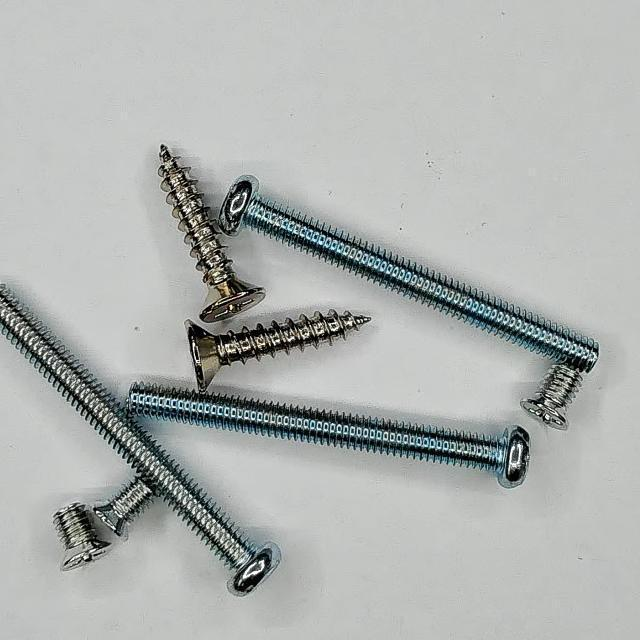Screw: (0, 285, 281, 596), (219, 176, 600, 372), (127, 383, 531, 488), (158, 145, 265, 323), (185, 310, 372, 392), (522, 365, 584, 430), (53, 504, 110, 572), (93, 478, 153, 537)
